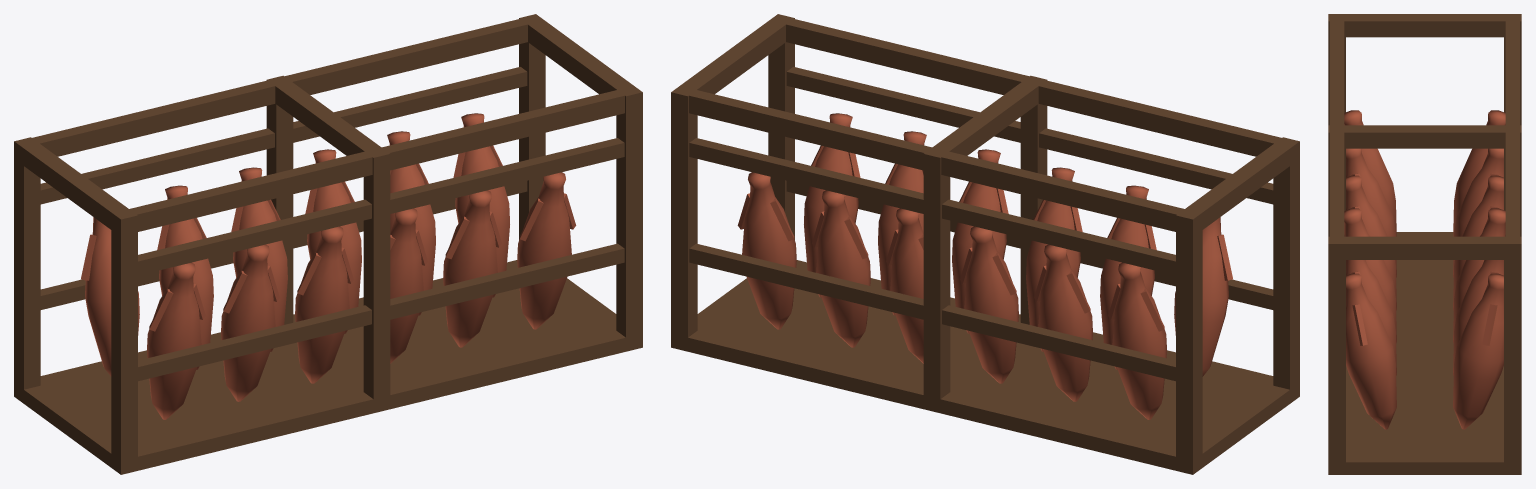
Rendered from rome_amphorae.glb.
The picture shows the model from 3 angles, left to right: view 1: azimuth 30°, elevation 25°; view 2: azimuth 150°, elevation 25°; view 3: azimuth 270°, elevation 25°; orthographic projection. The views are drawn at different scales.
Parts seen in each view (by area): view 1: rome_amphorae; view 2: rome_amphorae; view 3: rome_amphorae.
Boxes of the visible parts, x1=… form: rome_amphorae: x1=14, y1=14, x2=642, y2=474; rome_amphorae: x1=671, y1=14, x2=1299, y2=474; rome_amphorae: x1=1328, y1=14, x2=1521, y2=474.
Size of the model in its own units: 3.1 by 1.45 by 1.1.
